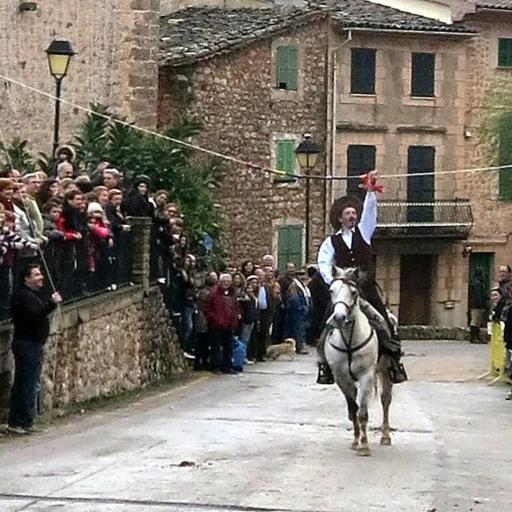horse: (318, 264, 396, 458)
